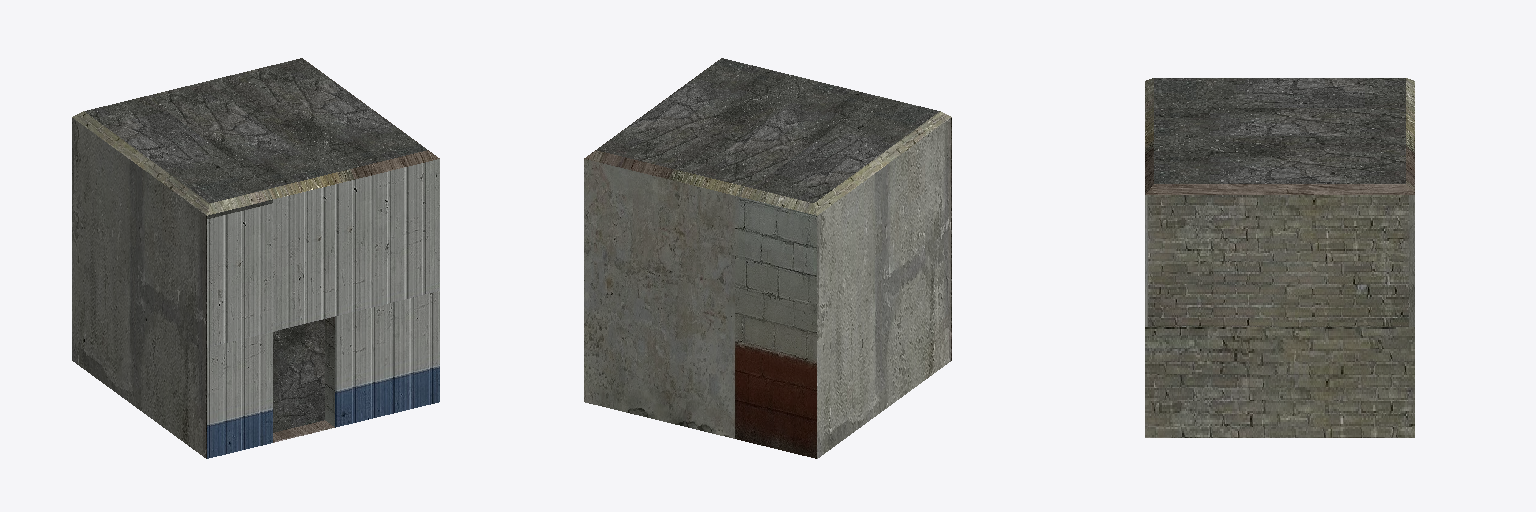
3 views of the same model, side by side, from view 1: azimuth 30°, elevation 25°; view 2: azimuth 150°, elevation 25°; view 3: azimuth 270°, elevation 25° (orthographic).
Parts seen in each view (by area): view 1: Edificio01; view 2: Edificio01; view 3: Edificio01.
Part boxes in pixels (x1,y1,x2,y2): Edificio01: (72,58,439,458); Edificio01: (584,58,951,458); Edificio01: (1145,78,1414,437).
Bounding box in the file's own units: 10 × 10.25 × 10.
Materials: 1 (1 with a texture image).